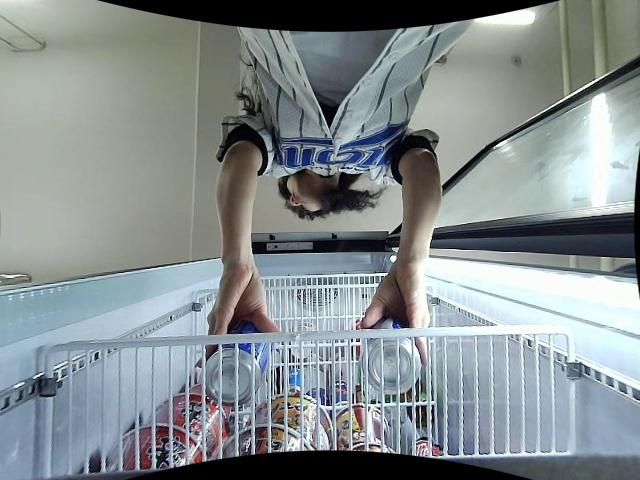00_hand: (195, 265, 282, 369), (360, 273, 431, 368)
13_pocariSweat: (204, 319, 271, 405), (364, 314, 423, 393)
